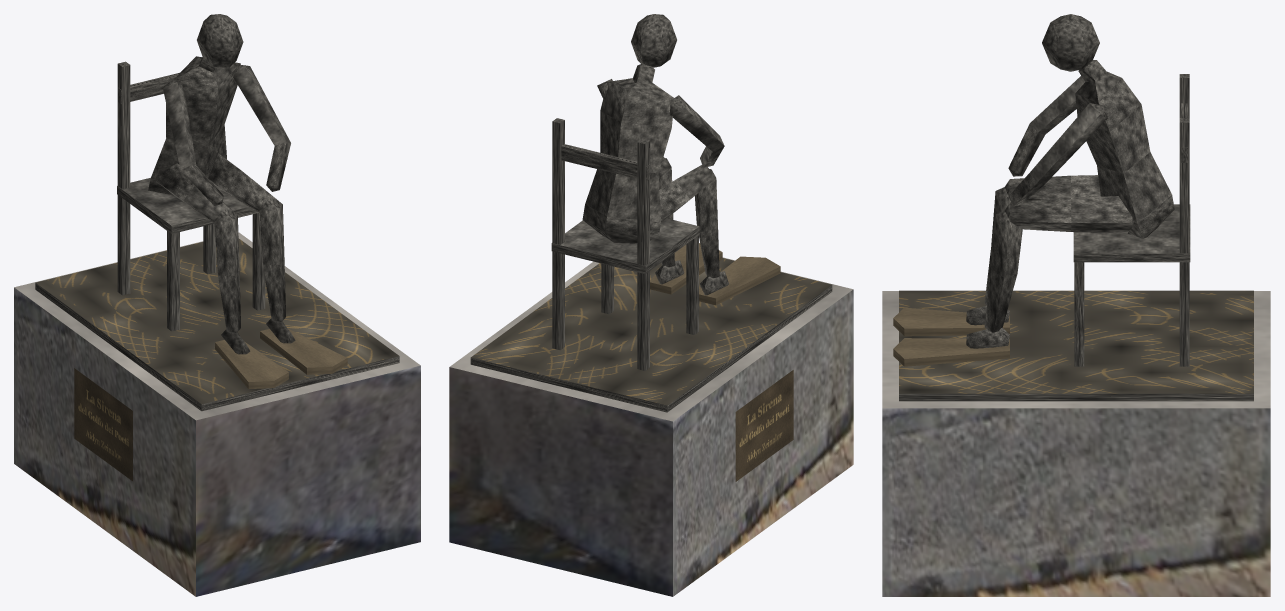
The model's file is SM_Molo_Sirena_LOD2.fbx.
3 views of the same model, side by side, from view 1: azimuth 30°, elevation 25°; view 2: azimuth 150°, elevation 25°; view 3: azimuth 270°, elevation 25° (orthographic). The views are drawn at different scales.
Parts seen in each view (by area): view 1: SM_Molo_Sirena_LOD2; view 2: SM_Molo_Sirena_LOD2; view 3: SM_Molo_Sirena_LOD2.
Part boxes in pixels (x1,y1,x2,y2): SM_Molo_Sirena_LOD2: [14, 14, 420, 596]; SM_Molo_Sirena_LOD2: [449, 14, 853, 596]; SM_Molo_Sirena_LOD2: [882, 14, 1270, 596].
Bounding box in the file's own units: 101 × 140 × 208.
1 material, 1 textured.
